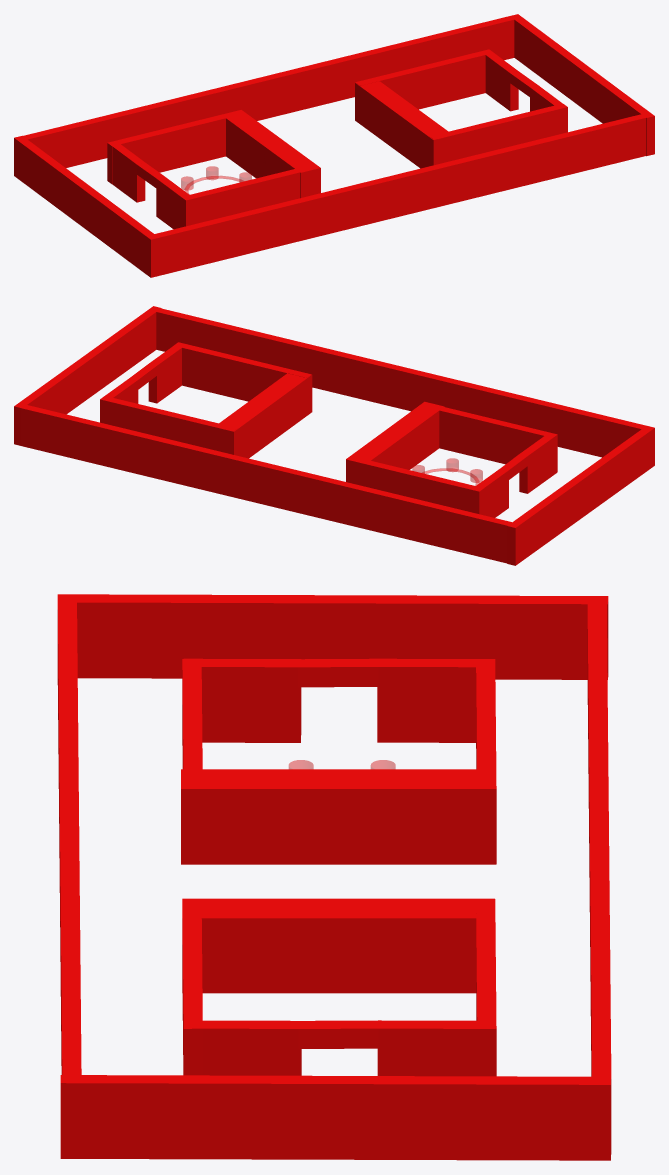
File: building.glb
The picture shows the model from 3 angles, top to bottom: view 1: azimuth 30°, elevation 25°; view 2: azimuth 150°, elevation 25°; view 3: azimuth 270°, elevation 25°; orthographic projection. The views are drawn at different scales.
Visible parts, largest first — view 1: test; view 2: test; view 3: test.
Boxes of the visible parts, box(x1,y1,x2,y2) form: test: box(14, 14, 654, 277); test: box(14, 306, 654, 565); test: box(57, 594, 611, 1160).
Bounding box in the file's own units: 10.57 × 0.7691 × 5.04.
